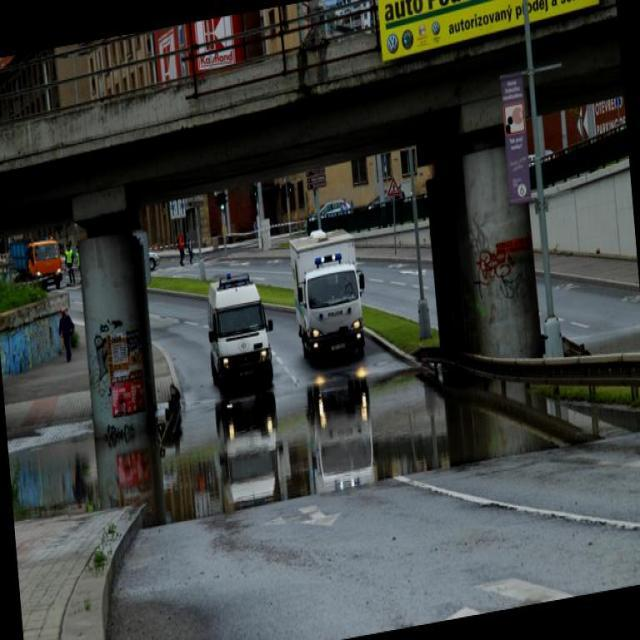flood: (157, 358, 523, 520)
